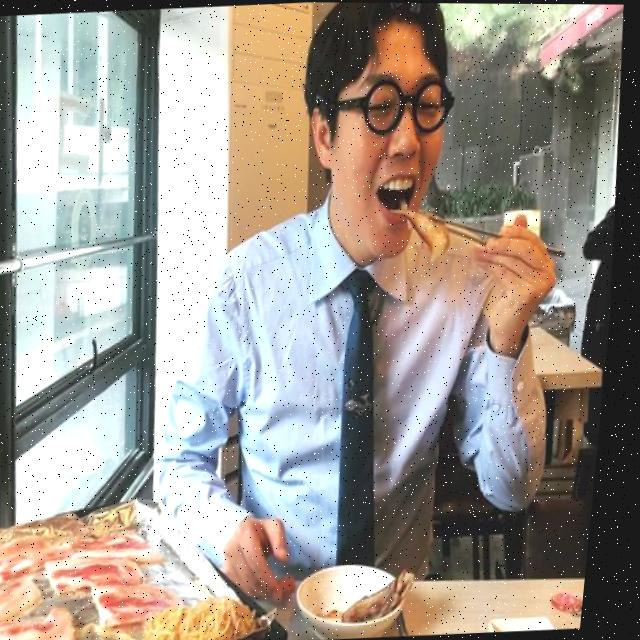eating-person: (120, 1, 627, 640)
